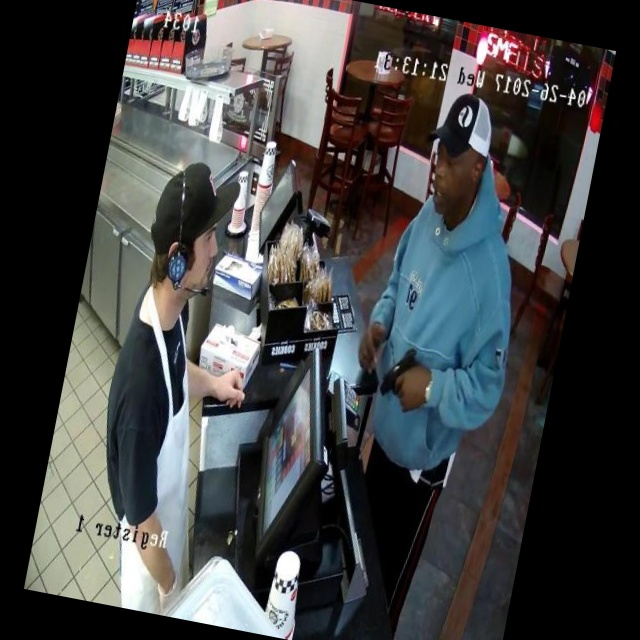gun: (354, 329, 451, 428)
